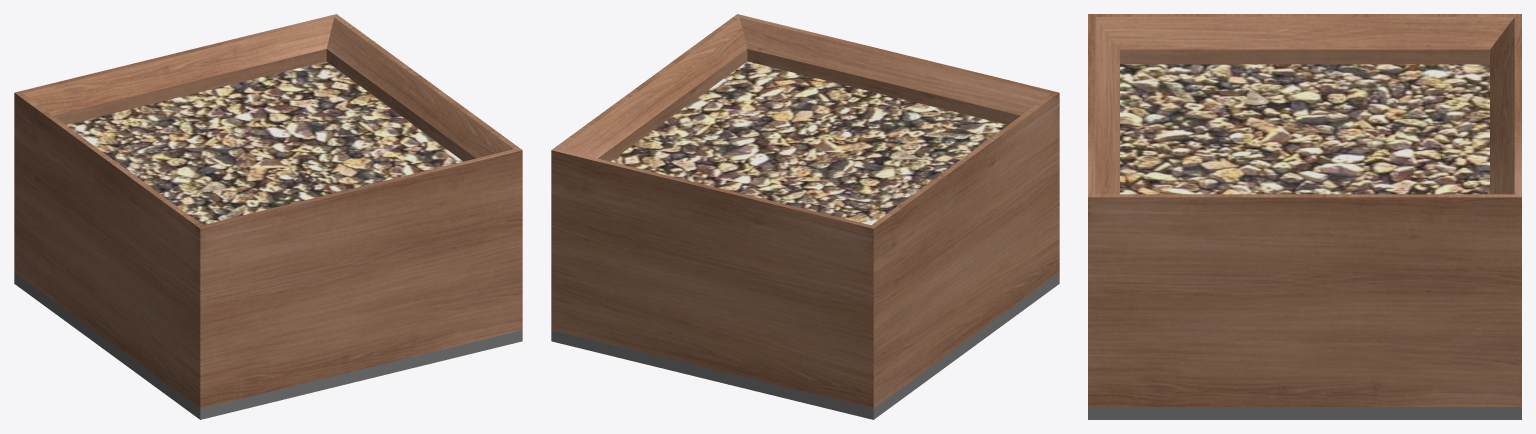
File: pot-plant-modified-fixed.glb
The picture shows the model from 3 angles, left to right: view 1: azimuth 30°, elevation 25°; view 2: azimuth 150°, elevation 25°; view 3: azimuth 270°, elevation 25°; orthographic projection. The views are drawn at different scales.
Parts seen in each view (by area): view 1: Object_1136, Object_1159, Object_1146; view 2: Object_1136, Object_1159, Object_1146; view 3: Object_1136, Object_1159, Object_1146.
Boxes of the visible parts, x1,y1,x2,y2 form: Object_1136: (14, 14, 522, 408); Object_1159: (66, 61, 462, 224); Object_1146: (14, 273, 522, 419); Object_1136: (551, 14, 1059, 408); Object_1159: (611, 61, 1007, 224); Object_1146: (551, 273, 1059, 419); Object_1136: (1088, 14, 1521, 406); Object_1159: (1120, 64, 1489, 194); Object_1146: (1088, 407, 1521, 419).
Size of the model in its own units: 0.3 by 0.17 by 0.3.
Materials: 3 (2 with a texture image).
